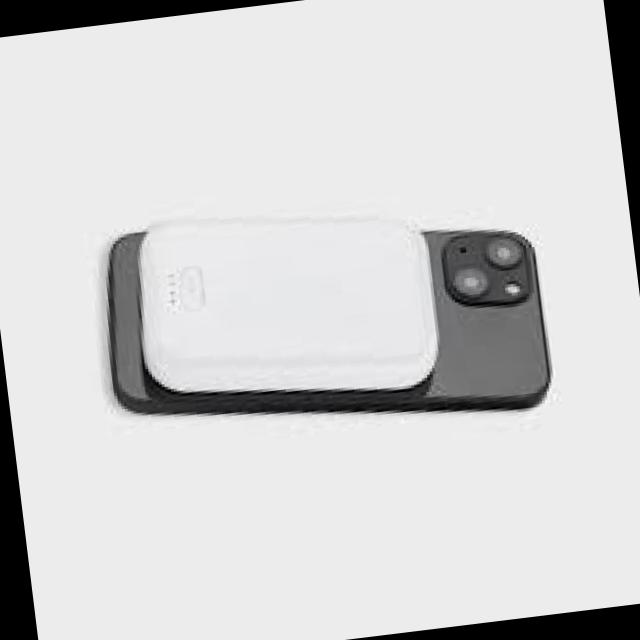portable-charger: (125, 192, 444, 422)
